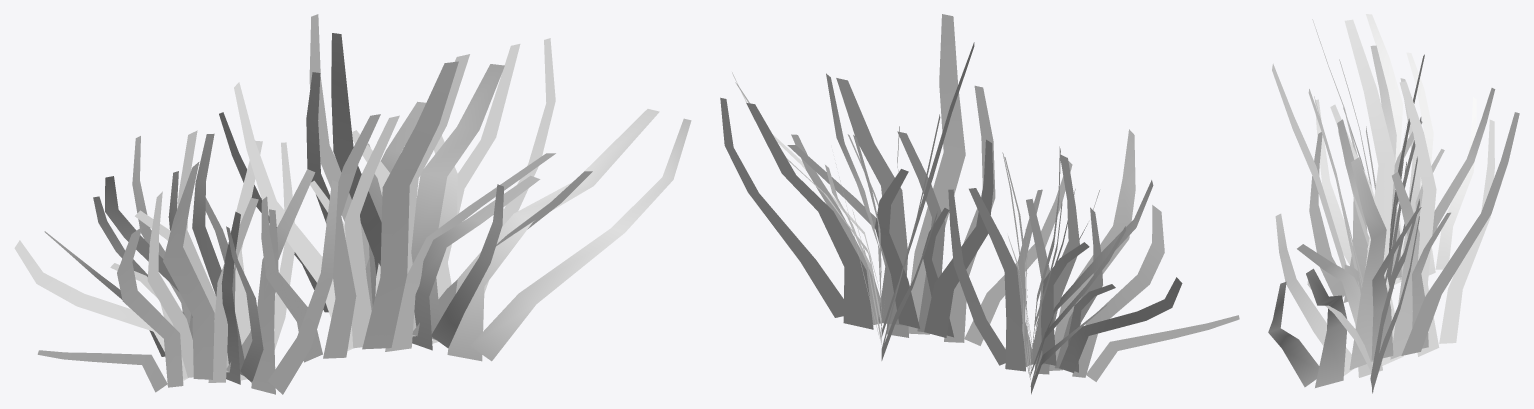
File: Grass_02.fbx
3 renders of one model, left to right at view 1: azimuth 30°, elevation 25°; view 2: azimuth 150°, elevation 25°; view 3: azimuth 270°, elevation 25°, orthographic. The views are drawn at different scales.
Visible parts, largest first — view 1: Grass_02; view 2: Grass_02; view 3: Grass_02.
Part boxes in pixels (x1,y1,x2,y2): Grass_02: (14, 14, 691, 394); Grass_02: (720, 14, 1239, 394); Grass_02: (1268, 14, 1519, 393).
Bounding box in the file's own units: 0.1486 × 0.0795 × 0.0578.
Materials: 1 (1 with a texture image).
